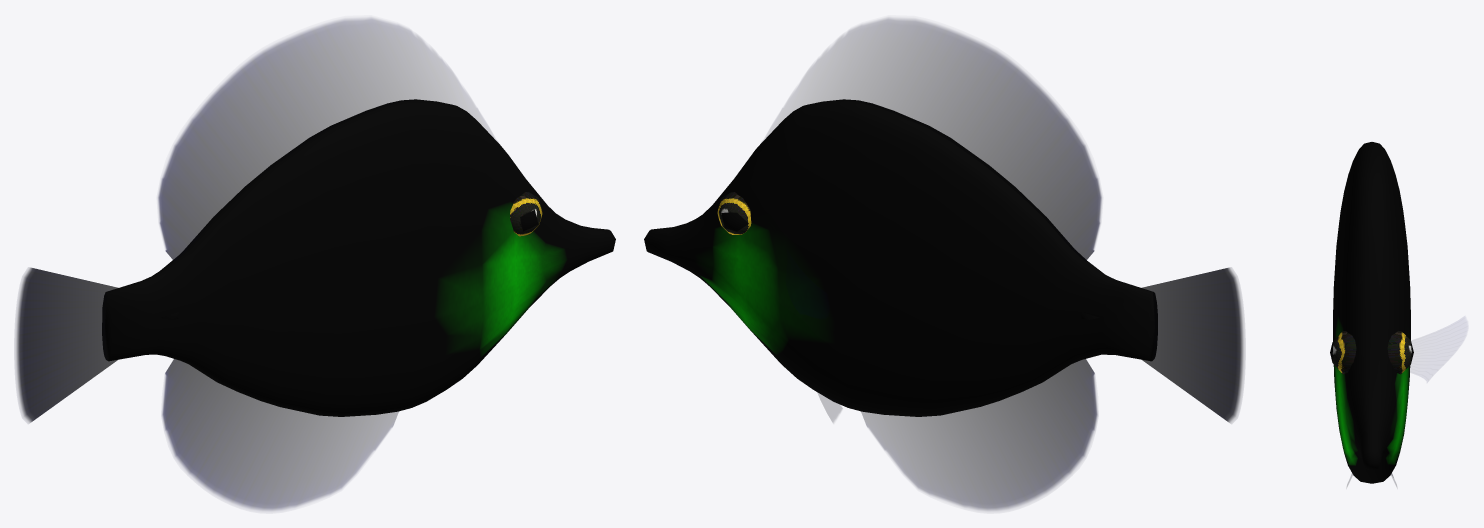
Rendered from yellow_tang_lod1.glb.
3 views of the same model, side by side, from view 1: azimuth 30°, elevation 25°; view 2: azimuth 150°, elevation 25°; view 3: azimuth 270°, elevation 25° (orthographic).
Parts seen in each view (by area): view 1: Body, FinDorsal, FinAnal, FinCaudal, EyeR; view 2: Body, FinDorsal, FinAnal, FinCaudal, EyeL; view 3: Body, EyeL, EyeR.
Part boxes in pixels (left/top/right/bottom): Body: left=102, top=99, right=615, bottom=416; FinDorsal: left=158, top=18, right=493, bottom=261; FinAnal: left=162, top=359, right=398, bottom=510; FinCaudal: left=15, top=267, right=119, bottom=422; EyeR: left=510, top=192, right=542, bottom=236; Body: left=644, top=99, right=1157, bottom=416; FinDorsal: left=766, top=18, right=1101, bottom=261; FinAnal: left=861, top=359, right=1097, bottom=510; FinCaudal: left=1140, top=267, right=1244, bottom=422; EyeL: left=717, top=192, right=751, bottom=234; Body: left=1333, top=142, right=1410, bottom=483; EyeL: left=1387, top=330, right=1413, bottom=374; EyeR: left=1330, top=331, right=1356, bottom=374.
Bounding box in the file's own units: 1 × 0.7662 × 0.2831.
4 materials, 3 textured.
